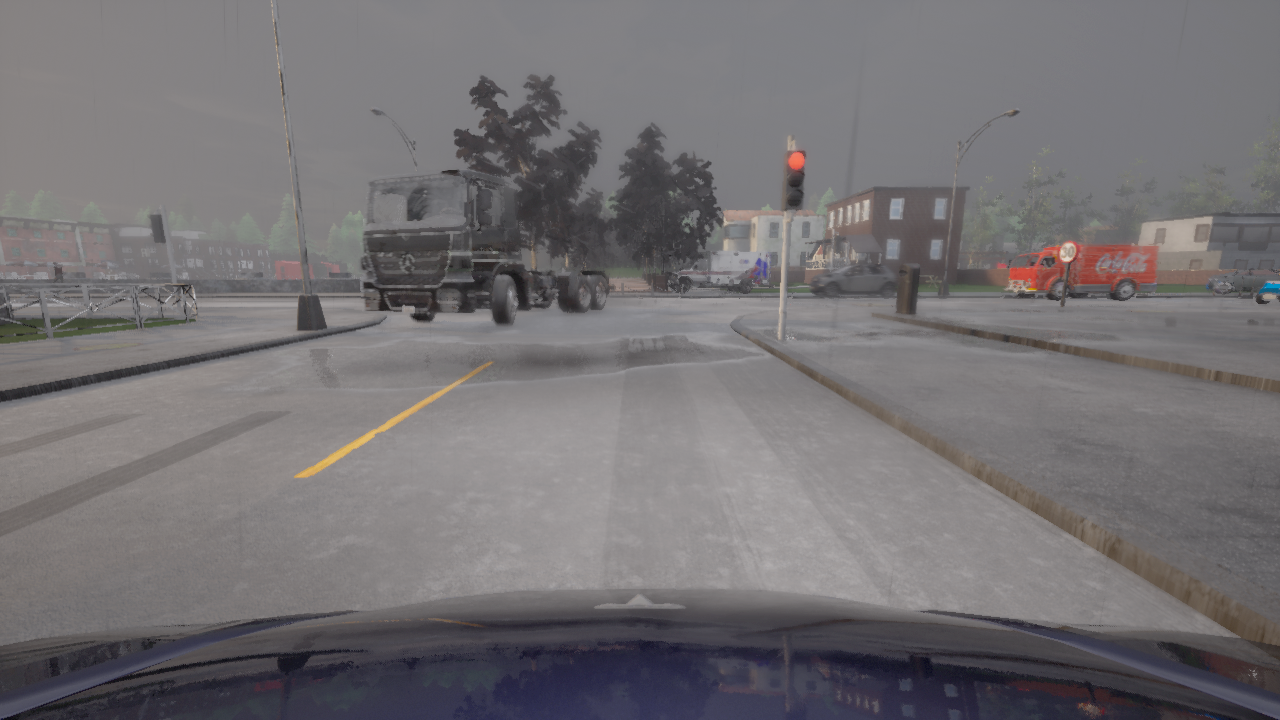cyclist: (0, 588, 1279, 719), (360, 168, 614, 325), (1003, 244, 1159, 300), (667, 250, 773, 292), (810, 264, 897, 297), (1207, 268, 1279, 292), (1255, 272, 1279, 304)
pedestrian: (52, 260, 67, 292)
